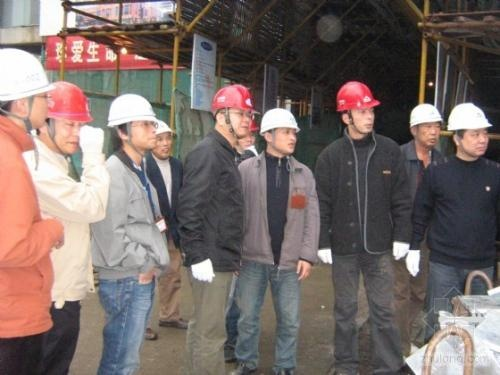red: (42, 79, 91, 156), (210, 81, 255, 141), (334, 77, 378, 137)
white: (1, 43, 52, 135), (107, 91, 157, 155), (446, 101, 492, 161), (258, 106, 300, 158), (407, 102, 443, 149), (151, 117, 174, 160)
